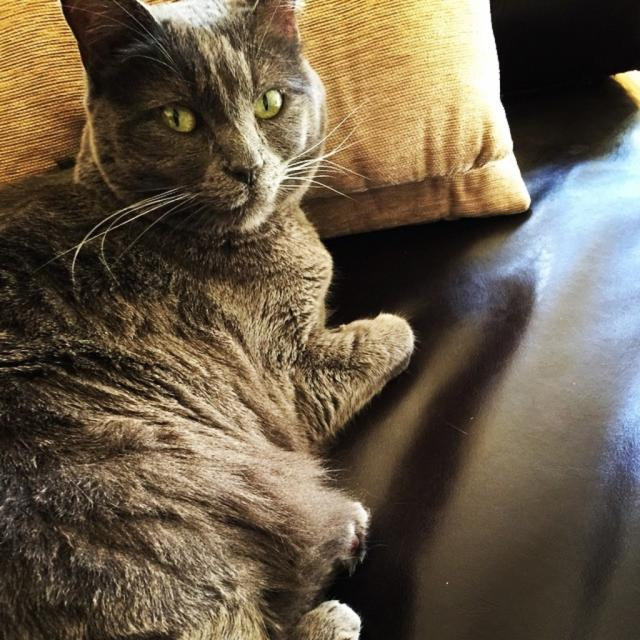Cat: (0, 0, 421, 638)
